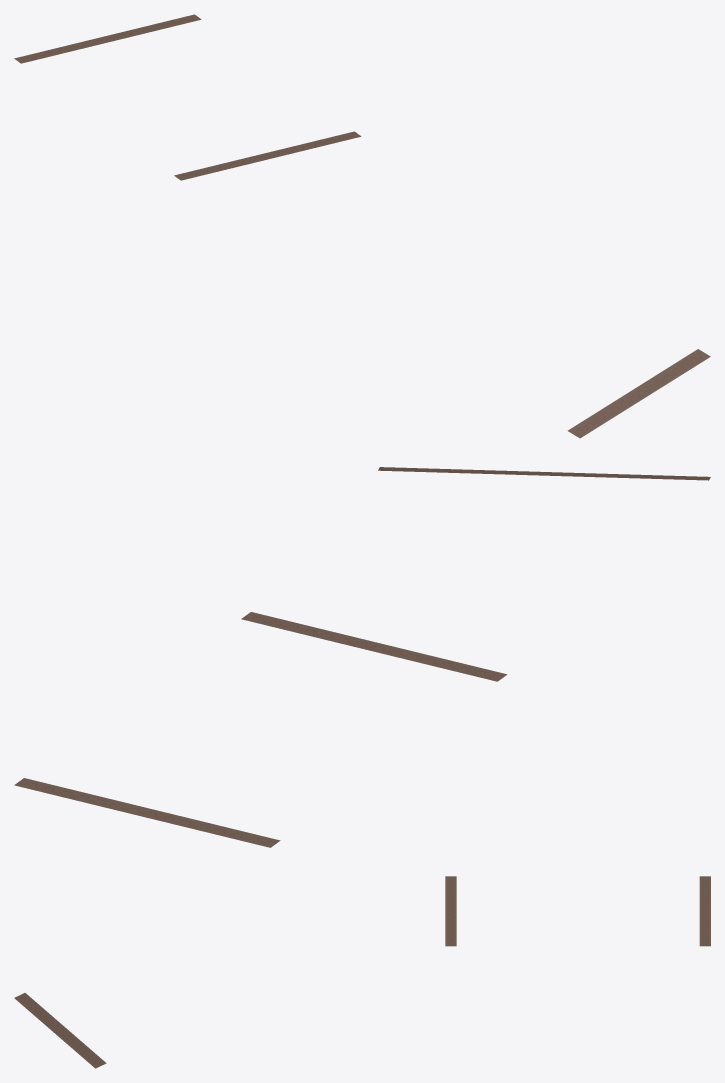
The model's file is kd_connection_town-ground_surface_1_49.glb.
3 views of the same model, one above another, from view 1: azimuth 30°, elevation 25°; view 2: azimuth 150°, elevation 25°; view 3: azimuth 270°, elevation 25° (orthographic). The views are drawn at different scales.
Parts seen in each view (by area): view 1: kd_connection_town-ground_surface_1_49; view 2: kd_connection_town-ground_surface_1_49; view 3: kd_connection_town-ground_surface_1_49.
Part boxes in pixels (x1,y1,x2,y2): kd_connection_town-ground_surface_1_49: (14, 14, 710, 438); kd_connection_town-ground_surface_1_49: (14, 467, 710, 847); kd_connection_town-ground_surface_1_49: (14, 876, 710, 1068).
Bounding box in the file's own units: 5.01 × 1.4 × 12.27.
Materials: 1 (1 with a texture image).
